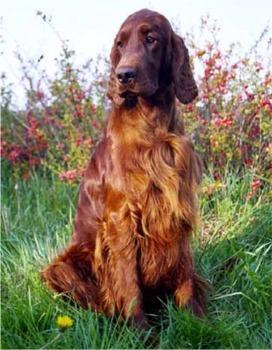Irish_setter: (41, 7, 209, 344)
